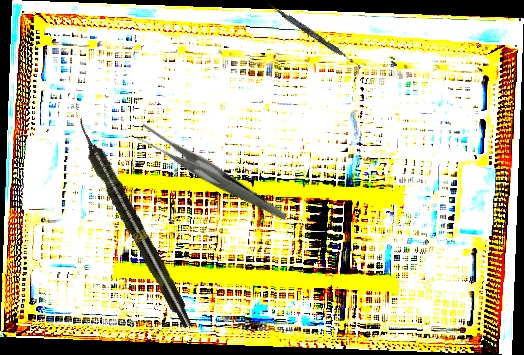Dressing Forceps: (132, 92, 288, 258)
Handpiece: (70, 115, 197, 331)
Spatula Surgical: (265, 1, 364, 70)
